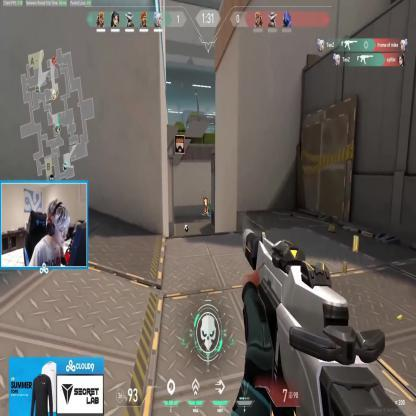enemy: (206, 197, 210, 216)
enemy_head: (206, 197, 209, 200)
